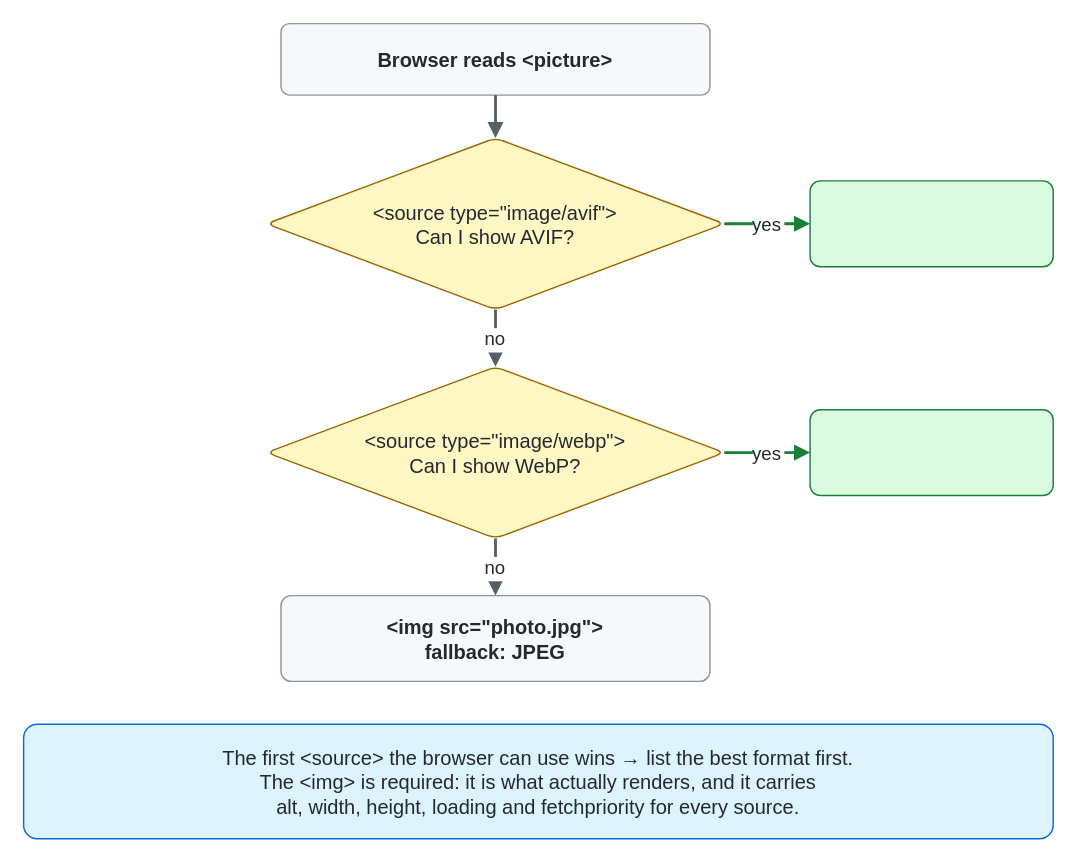
This 1077x862 diagram has some shape labels left out. Here are the shapes that lost their labels. From the top down, the centre of each, then its label:
At (931,223): "use photo.avif".
At (931,451): "use photo.webp".
